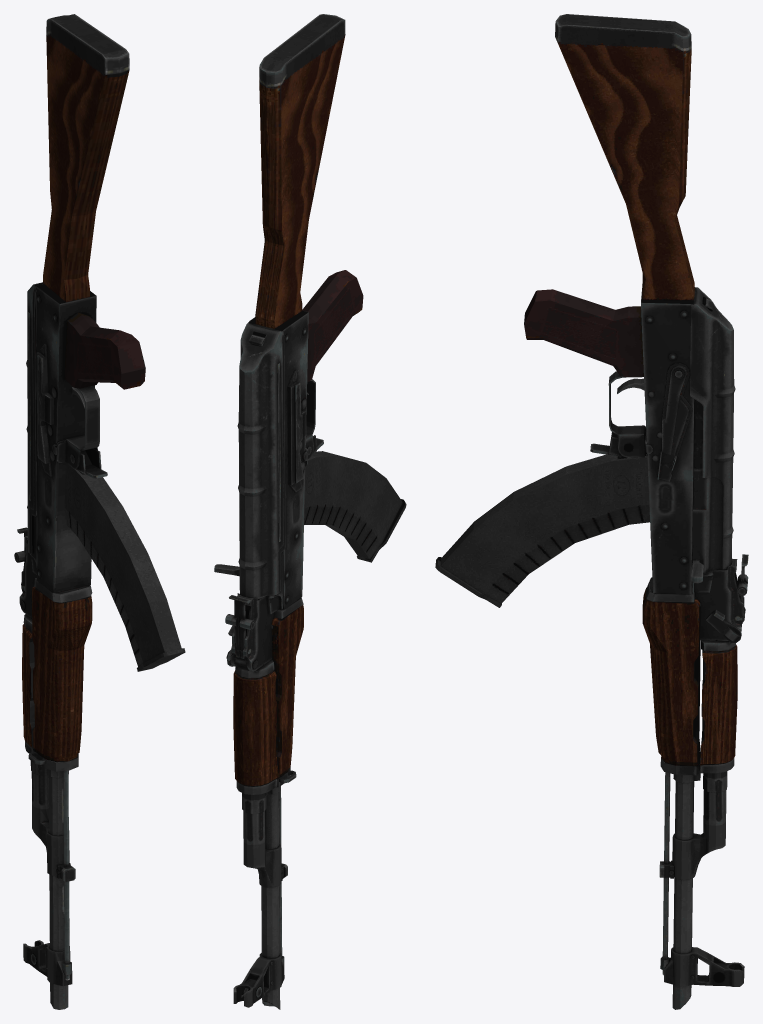
Rendered from w_rif_ak47.obj.
3 renders of one model, left to right at view 1: azimuth 30°, elevation 25°; view 2: azimuth 150°, elevation 25°; view 3: azimuth 270°, elevation 25°, orthographic. The views are drawn at different scales.
Bounding box in the file's own units: 0.03 × 0.3785 × 0.109.
1 material, 1 textured.
